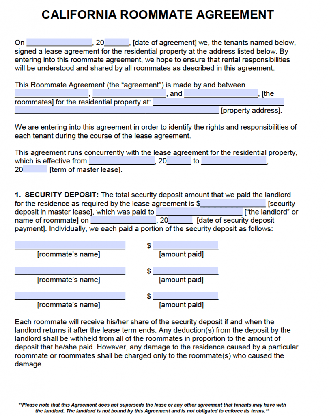textline: (13, 105, 221, 117), (11, 289, 130, 303), (12, 241, 127, 253), (151, 98, 286, 108), (10, 266, 129, 277), (154, 208, 245, 219), (88, 88, 167, 100), (13, 88, 89, 100), (150, 266, 224, 278), (182, 89, 259, 100), (199, 156, 269, 168), (89, 155, 158, 167), (25, 38, 93, 50), (151, 241, 219, 253), (199, 198, 266, 210), (150, 292, 222, 303), (88, 217, 160, 226), (167, 214, 194, 227), (21, 165, 49, 177), (103, 37, 131, 48), (165, 157, 193, 167)
